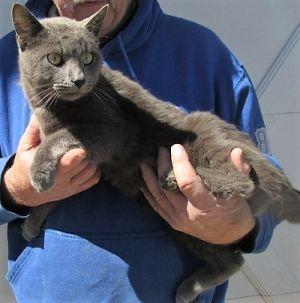rblue: (6, 1, 118, 115)
